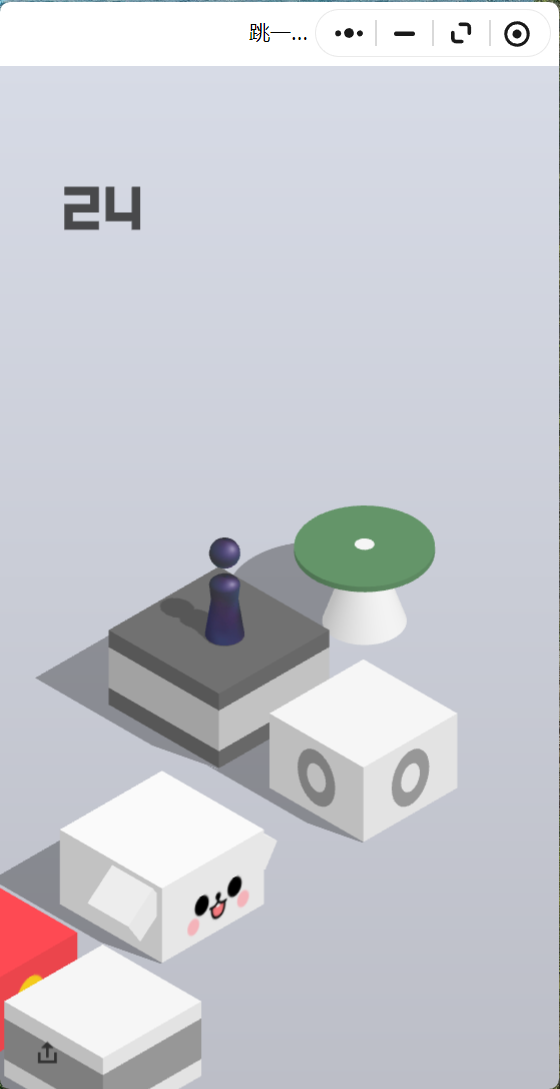piece: (209, 538, 239, 641)
target: (294, 505, 436, 586)
